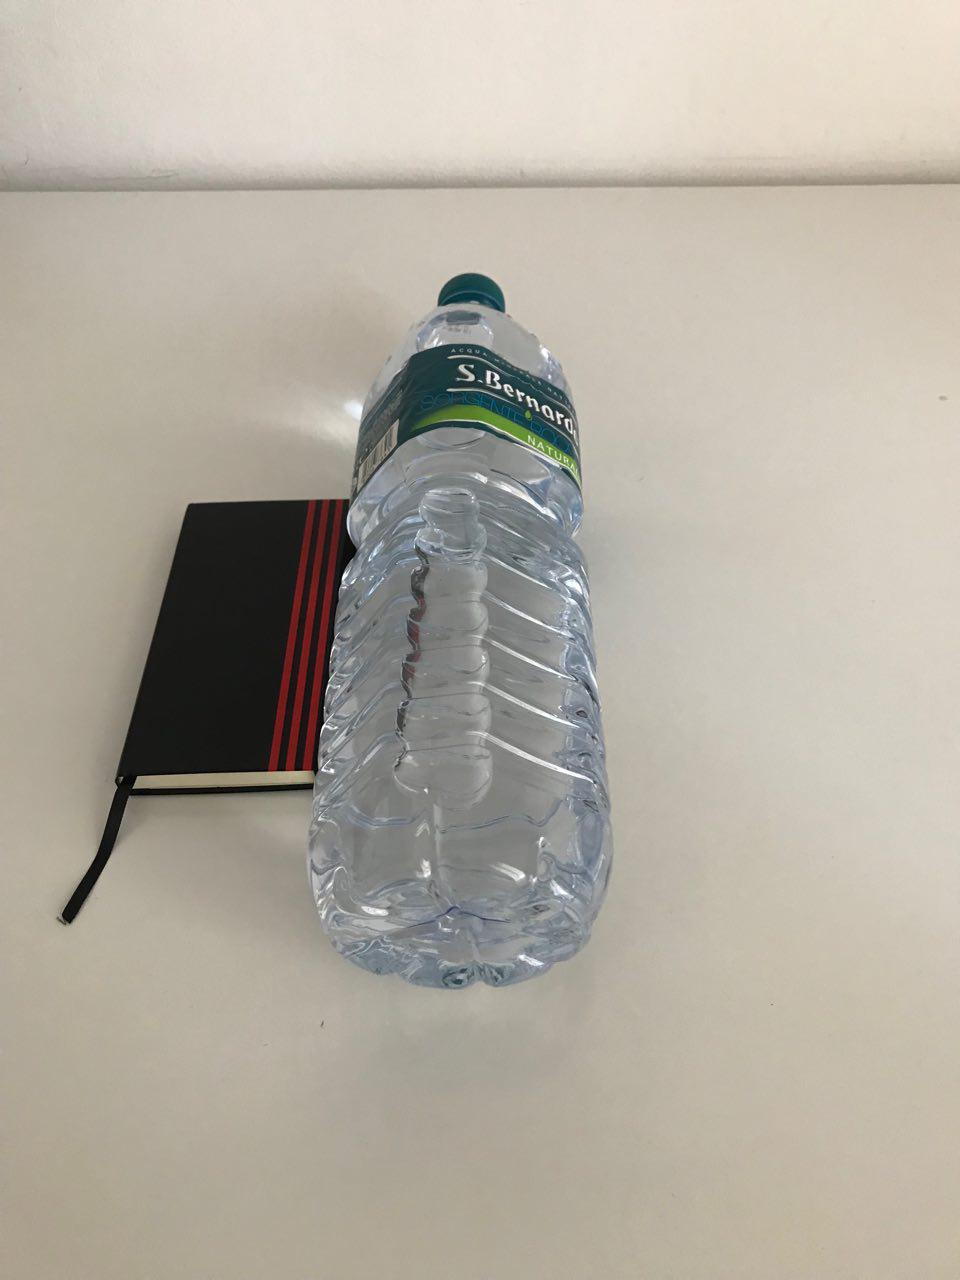san_bernardo: (307, 271, 616, 994)
